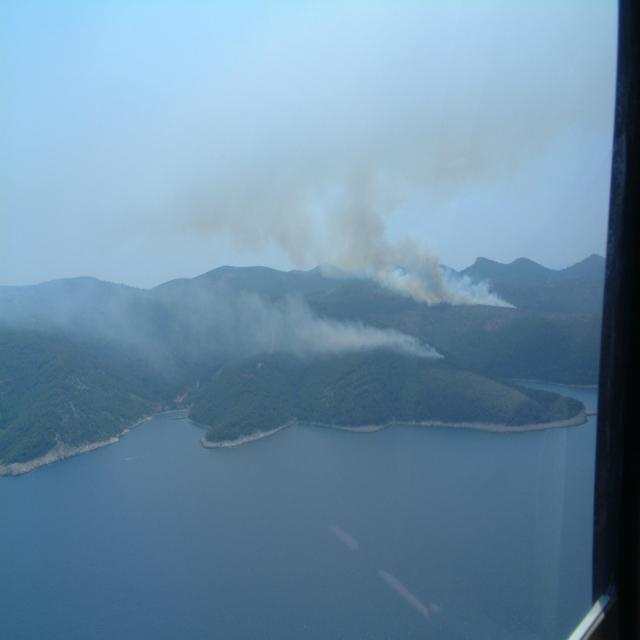Smoke: (122, 102, 530, 308), (1, 278, 447, 386)
